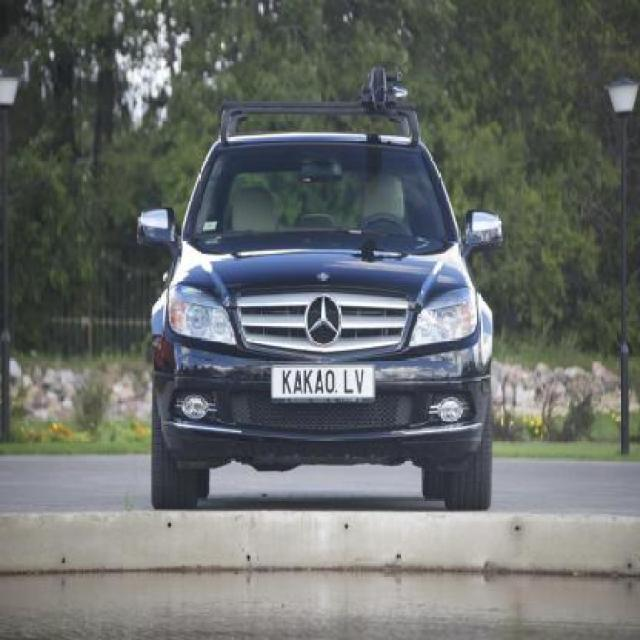Licenseplate: (271, 370, 373, 401)
